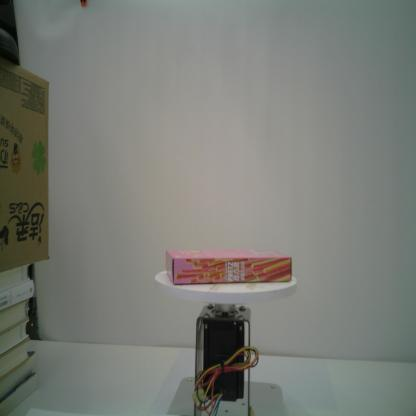Dessert: (165, 248, 293, 283)
